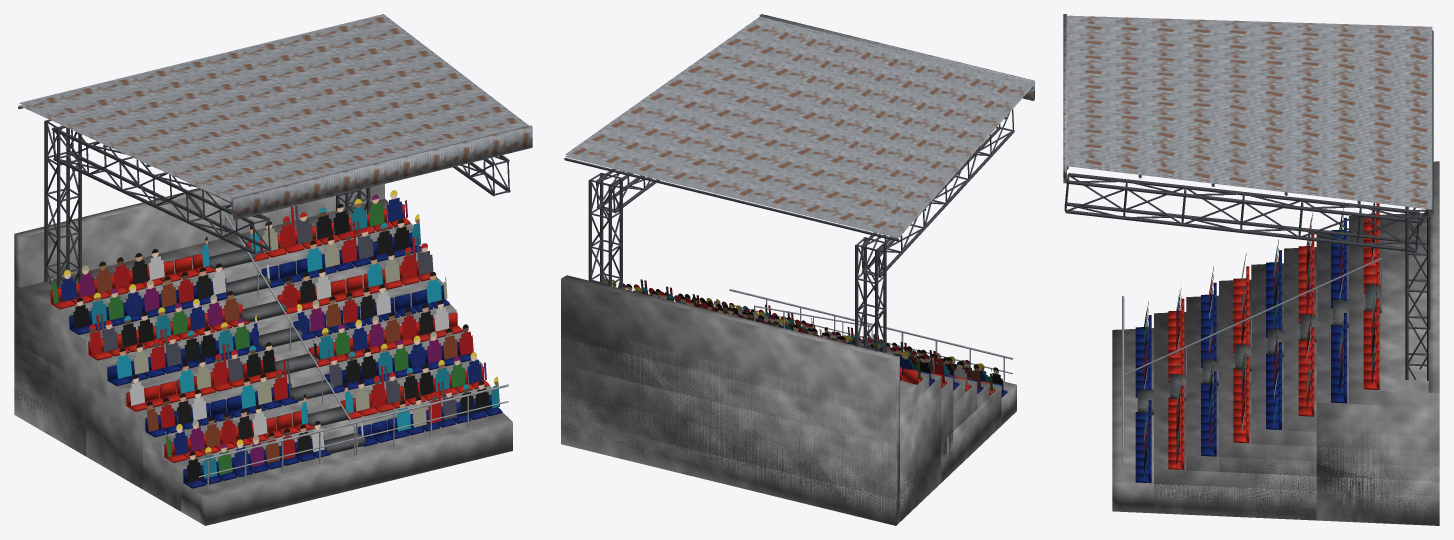
File: bay_10m_curve12_roof_crowd.glb
3 views of the same model, side by side, from view 1: azimuth 30°, elevation 25°; view 2: azimuth 150°, elevation 25°; view 3: azimuth 270°, elevation 25° (orthographic). The views are drawn at different scales.
Parts seen in each view (by area): view 1: bay_10m_curve12_roof_crowd; view 2: bay_10m_curve12_roof_crowd; view 3: bay_10m_curve12_roof_crowd.
Part boxes in pixels (bbox=[...]): bay_10m_curve12_roof_crowd: bbox=[14, 14, 532, 525]; bay_10m_curve12_roof_crowd: bbox=[561, 14, 1034, 525]; bay_10m_curve12_roof_crowd: bbox=[1063, 14, 1439, 525].
Size of the model in its own units: 11.85 by 10.62 by 10.4.
8 materials, 8 textured.
